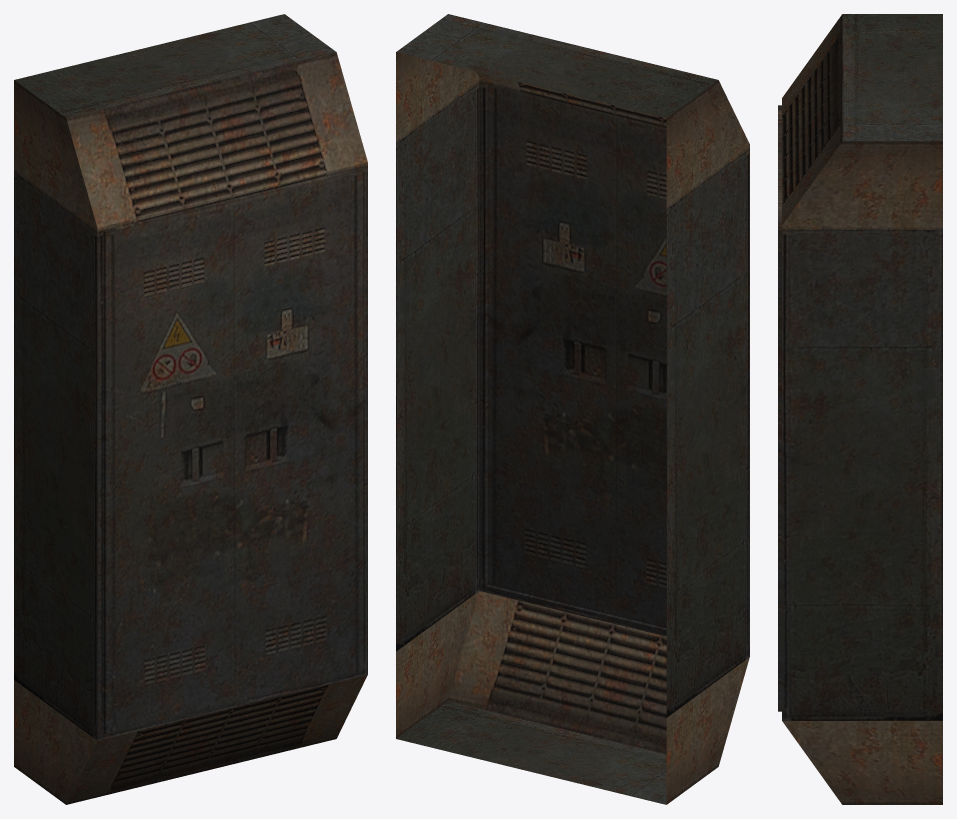
The model's file is electrical_equipment_1.obj.
3 views of the same model, side by side, from view 1: azimuth 30°, elevation 25°; view 2: azimuth 150°, elevation 25°; view 3: azimuth 270°, elevation 25° (orthographic). The views are drawn at different scales.
Visible parts, largest first — view 1: electrical_equipment_1; view 2: electrical_equipment_1; view 3: electrical_equipment_1.
Boxes of the visible parts, bbox=[...] form: electrical_equipment_1: bbox=[14, 14, 367, 804]; electrical_equipment_1: bbox=[396, 14, 749, 804]; electrical_equipment_1: bbox=[778, 14, 942, 804].
Bounding box in the file's own units: 1.2 × 2.91 × 0.656.
